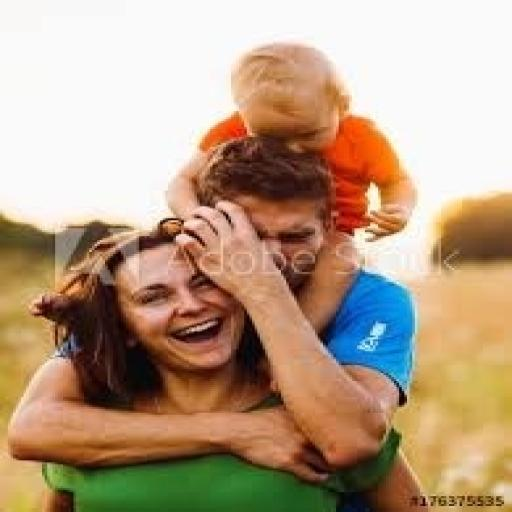hugging: (5, 206, 428, 510), (160, 38, 420, 246)
